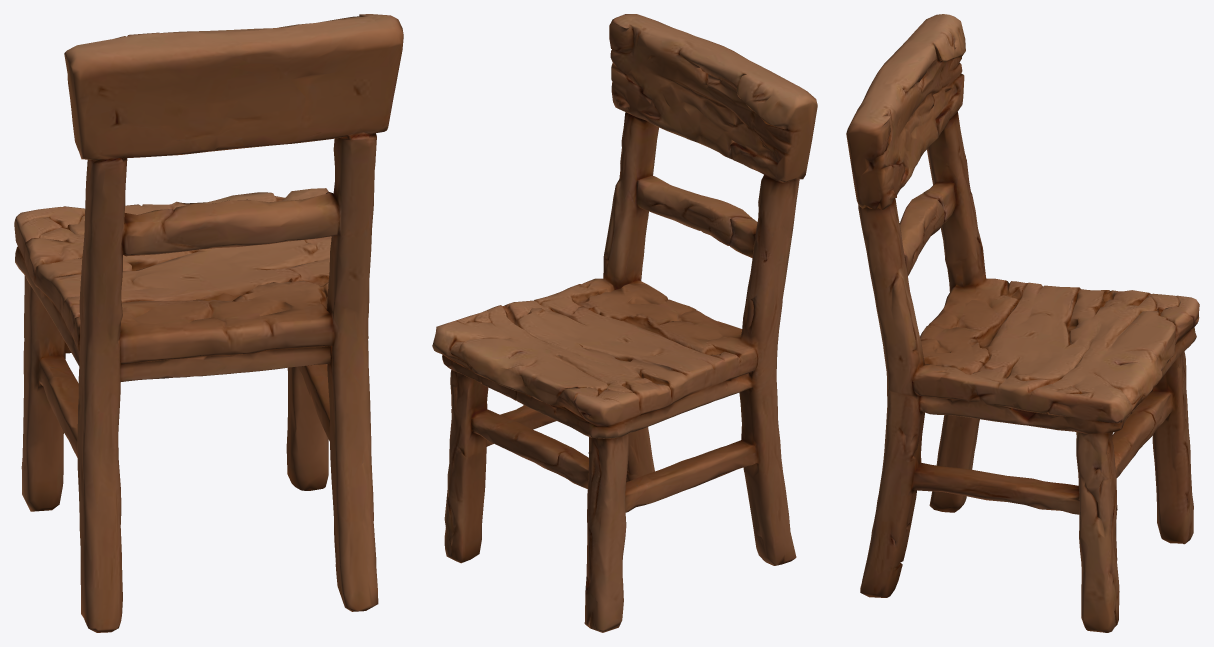
The picture shows the model from 3 angles, left to right: view 1: azimuth 30°, elevation 25°; view 2: azimuth 150°, elevation 25°; view 3: azimuth 270°, elevation 25°; orthographic projection. The views are drawn at different scales.
Visible parts, largest first — view 1: tripo_node_6706607c-a93b-4a19-8dc8-5a46bad352cf; view 2: tripo_node_6706607c-a93b-4a19-8dc8-5a46bad352cf; view 3: tripo_node_6706607c-a93b-4a19-8dc8-5a46bad352cf.
Boxes of the visible parts, x1,y1,x2,y2 form: tripo_node_6706607c-a93b-4a19-8dc8-5a46bad352cf: (14,14,403,632); tripo_node_6706607c-a93b-4a19-8dc8-5a46bad352cf: (432,14,817,632); tripo_node_6706607c-a93b-4a19-8dc8-5a46bad352cf: (846,14,1199,632).
Bounding box in the file's own units: 0.5202 × 0.8 × 0.528.
Materials: 1 (1 with a texture image).
